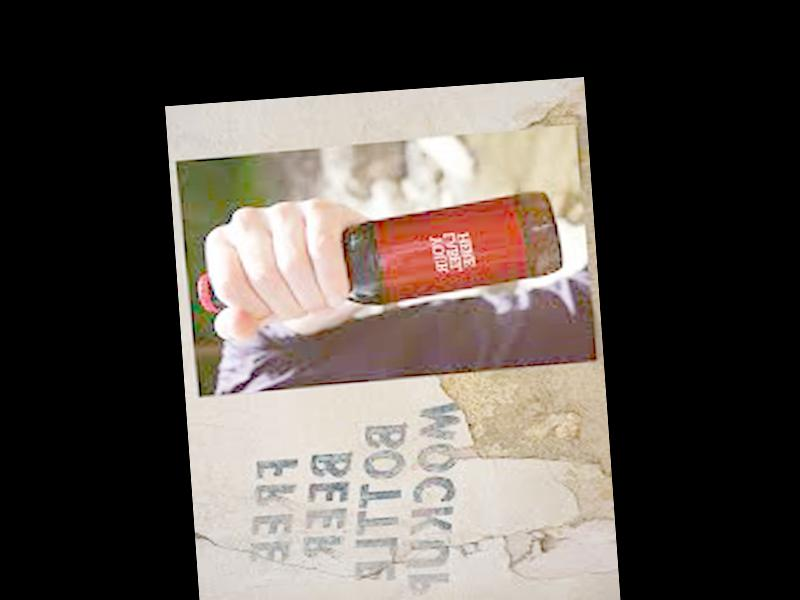Beer: (193, 189, 564, 314)
